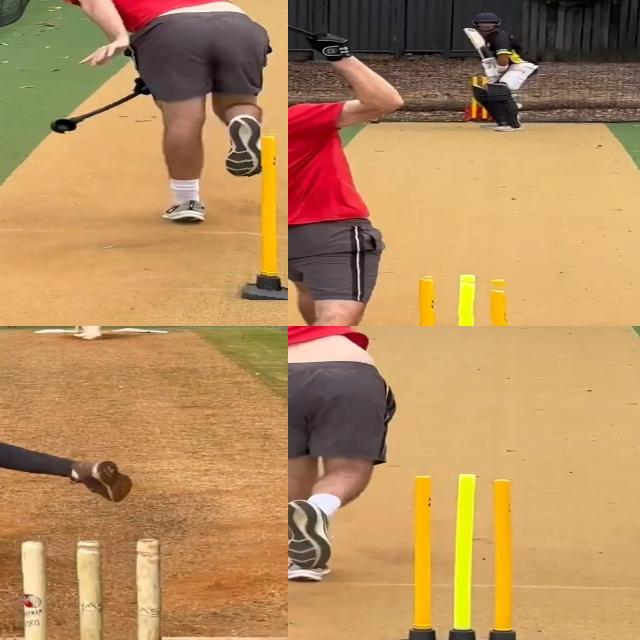Cricket ball: (6, 326, 16, 329)
Stumps: (397, 471, 526, 640), (19, 538, 161, 640), (242, 130, 288, 300), (400, 273, 521, 326)
